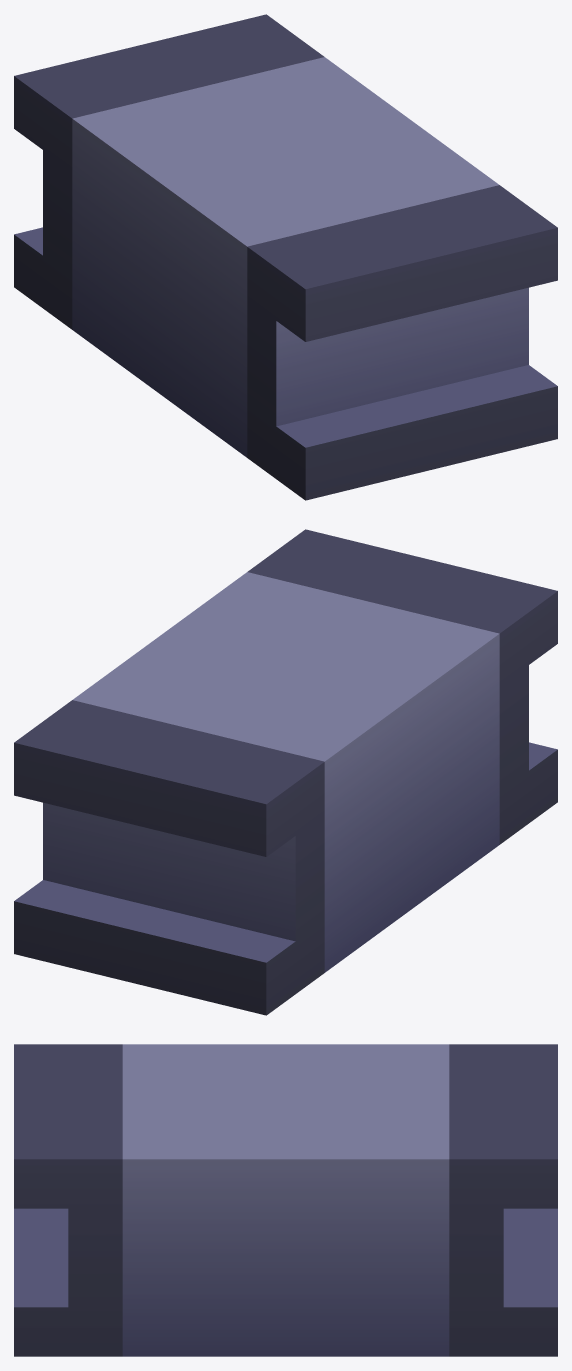
The model's file is kenney-factory-conveyor-stripe-part-middle.glb.
The picture shows the model from 3 angles, top to bottom: view 1: azimuth 30°, elevation 25°; view 2: azimuth 150°, elevation 25°; view 3: azimuth 270°, elevation 25°; orthographic projection. The views are drawn at different scales.
Visible parts, largest first — view 1: conveyor-stripe-part-middle; view 2: conveyor-stripe-part-middle; view 3: conveyor-stripe-part-middle.
Boxes of the visible parts, <box> form: conveyor-stripe-part-middle: <box>14,14,557,500</box>; conveyor-stripe-part-middle: <box>14,529,557,1015</box>; conveyor-stripe-part-middle: <box>14,1044,557,1356</box>.
Bounding box in the file's own units: 0.5001 × 0.3999 × 1.
1 material, 1 textured.
